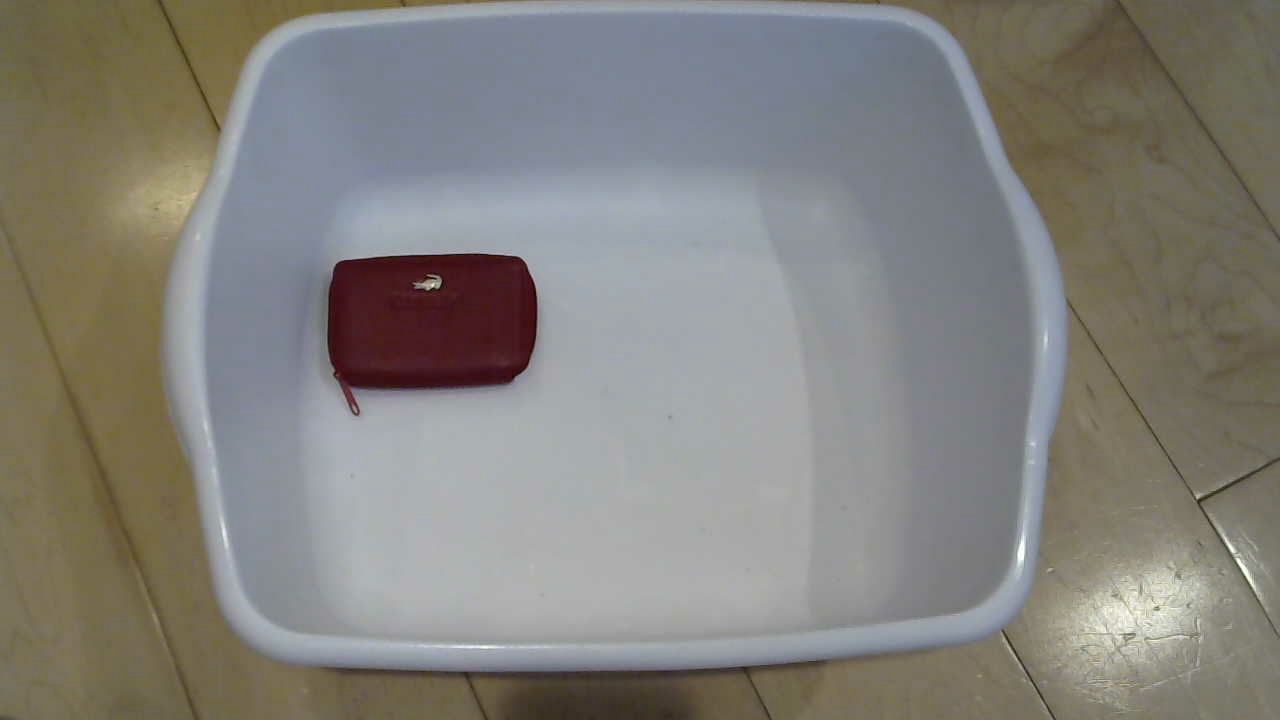wallet: (305, 241, 550, 410)
